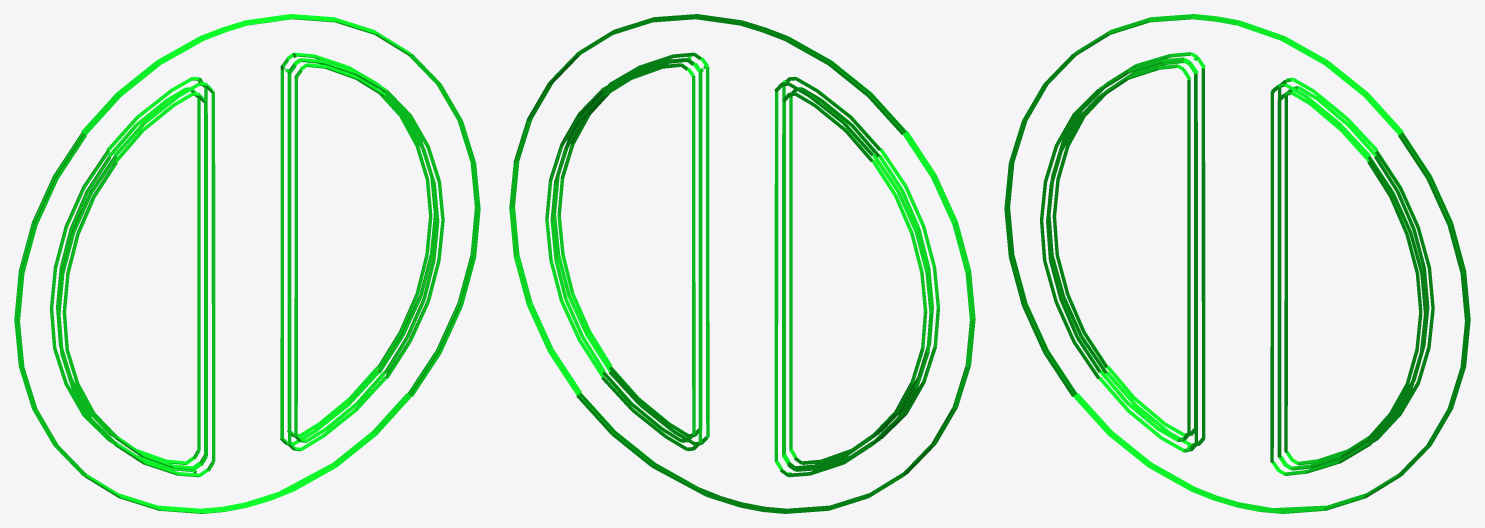
Rendered from VIS_TRACK.obj.
The picture shows the model from 3 angles, left to right: view 1: azimuth 30°, elevation 25°; view 2: azimuth 150°, elevation 25°; view 3: azimuth 330°, elevation 25°; orthographic projection.
Bounding box in the file's own units: 556 × 556 × 20.15.
